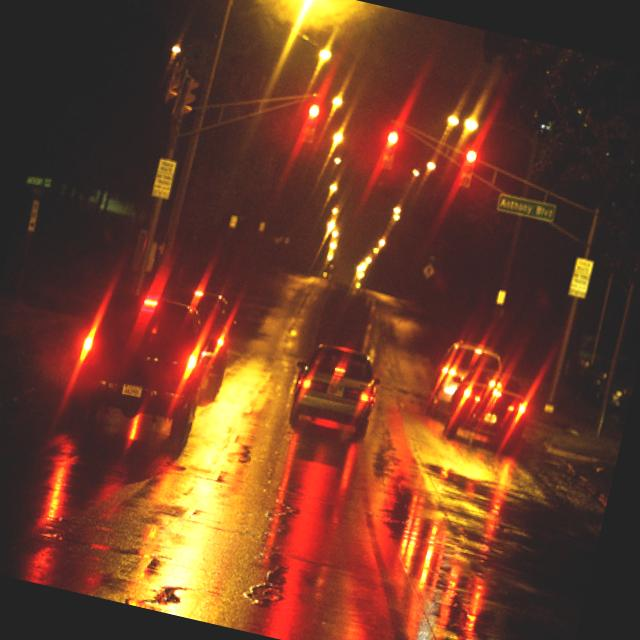Vehicle: (56, 258, 540, 536), (284, 334, 385, 438), (442, 360, 534, 452), (424, 336, 508, 432), (164, 287, 242, 378)
